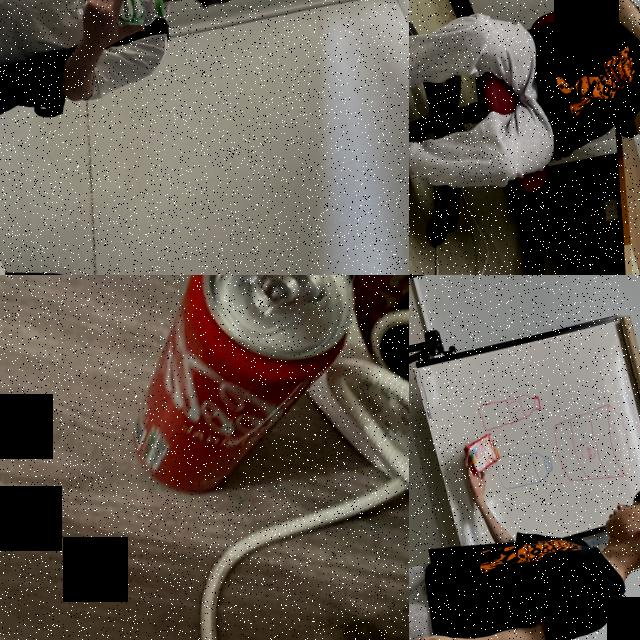bottle: (70, 0, 168, 41)
can: (91, 275, 390, 507)
